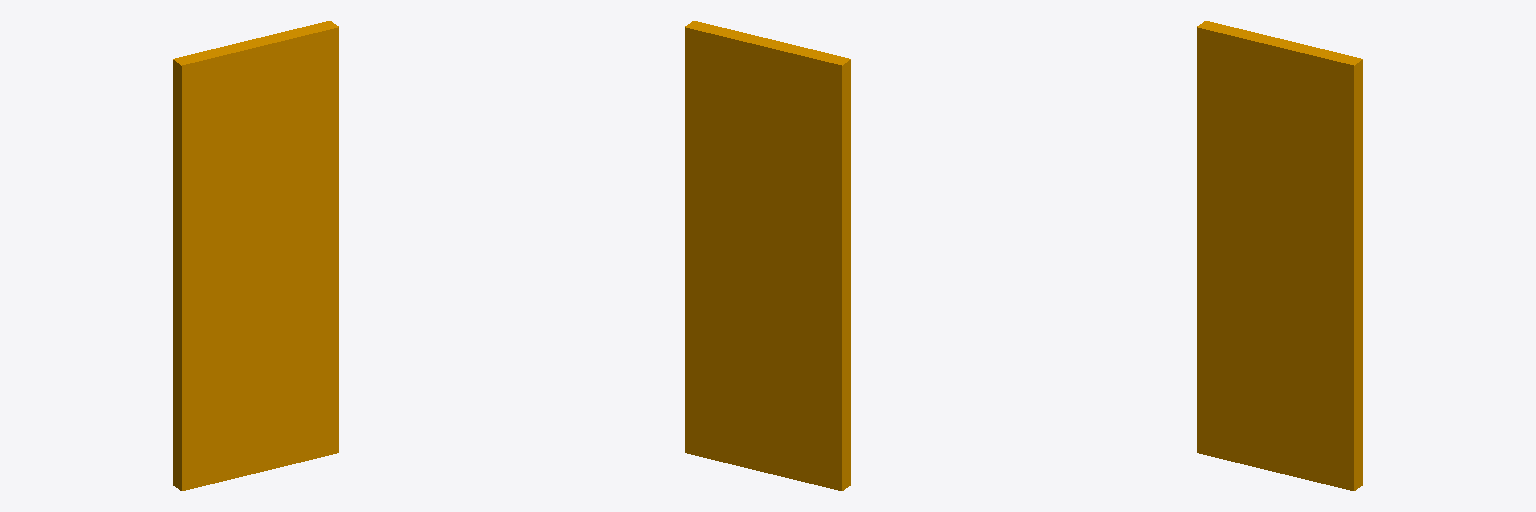
The robot description file, URDF, robot "wall":
<?xml version="1.0"?>
<robot name="wall">
  <link name="wall">
    <inertial>
        <origin rpy="0 0 0" xyz="0 0 0"/>
        <mass value="30.0"/>
        <inertia ixx="2e-2" ixy="0" ixz="0" iyy="2e-2" iyz="0" izz="2e-2"/>
    </inertial>
    <visual>
      <geometry>
        <mesh filename="wall_visual.obj"/>
      </geometry>
    </visual>
    <collision>
      <geometry>
        <mesh filename="wall_visual.obj"/>
      </geometry>
      <surface>
           <bounce restitution_coefficient = "0.1"/>
      </surface>
    </collision>
  </link>
</robot>

--- What the picture shows (computed from the rendered views, not written in the file) ---
The picture shows the robot from 3 angles, left to right: view 1: azimuth 30°, elevation 25°; view 2: azimuth 150°, elevation 25°; view 3: azimuth 330°, elevation 25°; orthographic projection.
Robot: wall — 1 links, 0 joints (none); root link wall; default pose: all joints at 0.
Links seen in each view (by area): view 1: wall; view 2: wall; view 3: wall.
Boxes of the visible links, x1,y1,x2,y2 form: wall: [173, 21, 338, 490]; wall: [685, 21, 850, 490]; wall: [1197, 21, 1362, 490].
Bounding box of the posed robot: 1 × 0.1 × 2.58 m (x, y, z).
1 mesh visuals loaded from 1 distinct referenced files (1 OBJ).
